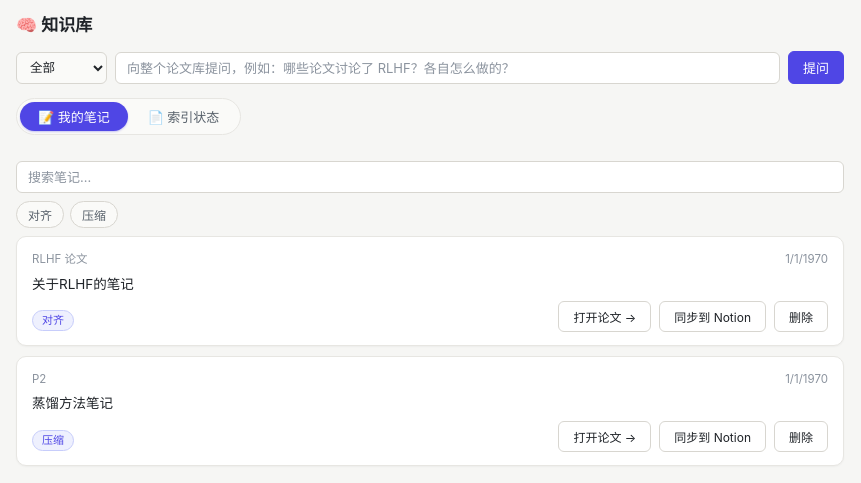
KnowledgeView › browses all notes and filters by tag chip
Expected: the text "关于RLHF的笔记" is shown, [32,276,134,292]
Expected: the text "蒸馏方法笔记" is shown, [32,395,113,411]
Click the button "对齐".
click(40, 215)  # box [16,201,64,228]
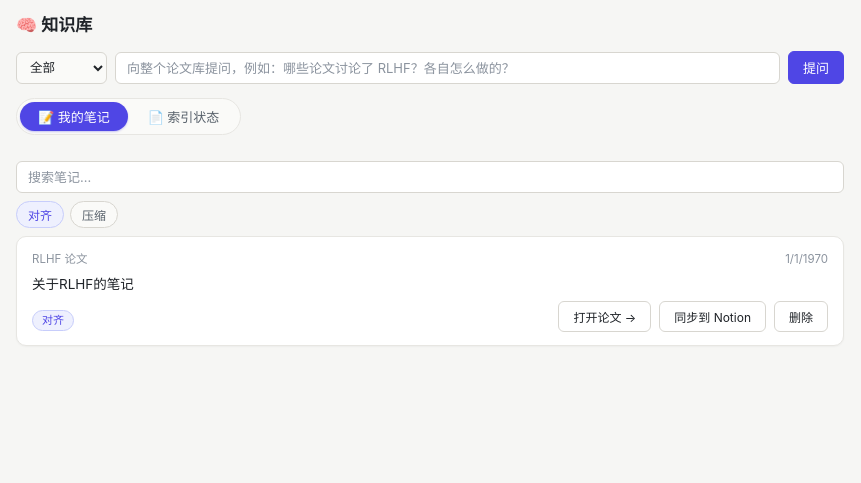
Expected: the text "关于RLHF的笔记" is shown, [32,276,134,292]
Now the text "蒸馏方法笔记" is gone
